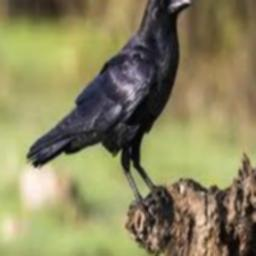Crow: (26, 0, 193, 219)
